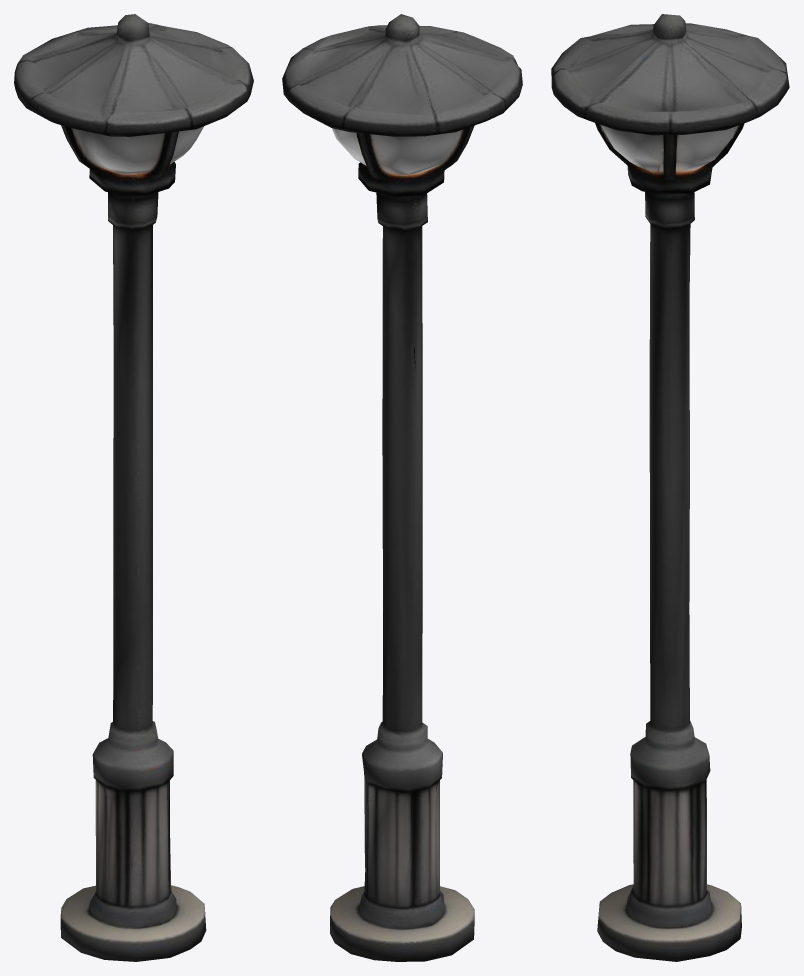
Rendered from street_lamp.glb.
The picture shows the model from 3 angles, left to right: view 1: azimuth 30°, elevation 25°; view 2: azimuth 150°, elevation 25°; view 3: azimuth 270°, elevation 25°; orthographic projection.
Parts seen in each view (by area): view 1: street_lamp; view 2: street_lamp; view 3: street_lamp.
Boxes of the visible parts, <box> form: street_lamp: <box>14,14,253,961</box>; street_lamp: <box>282,14,522,961</box>; street_lamp: <box>551,14,789,961</box>.
Size of the model in its own units: 1.42 by 6 by 1.41.
1 material, 1 textured.
